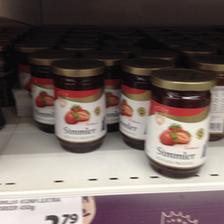Marmelade: (144, 66, 216, 178), (48, 57, 106, 152), (116, 58, 152, 148)
